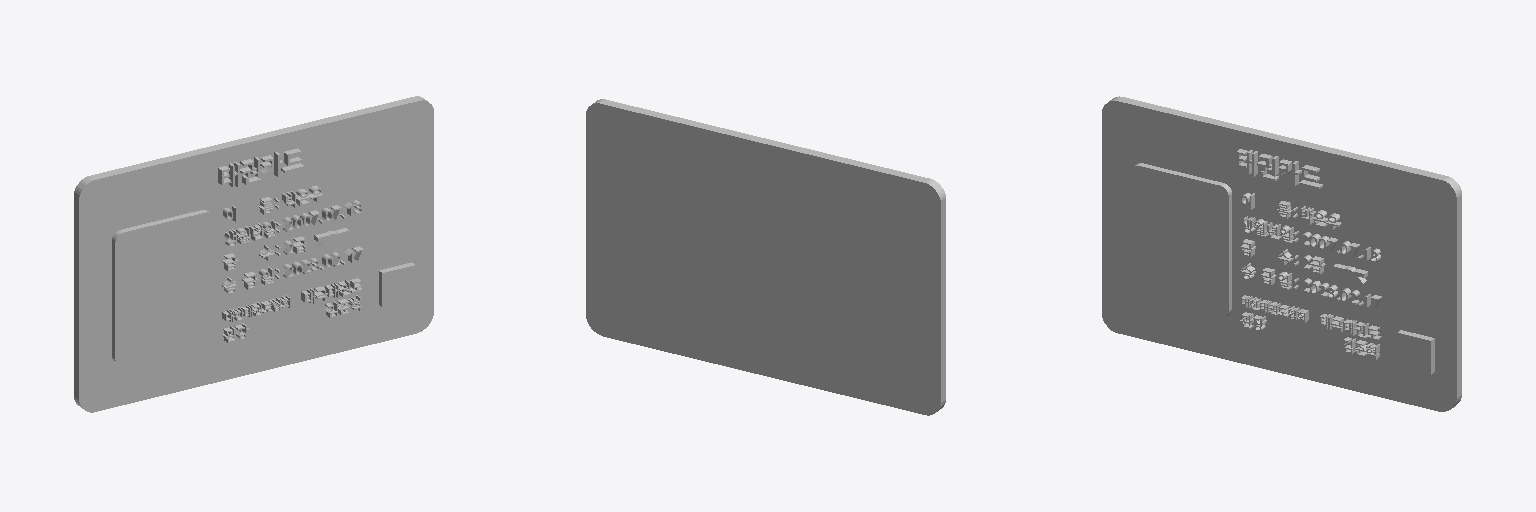
File: namectt.obj
3 renders of one model, left to right at view 1: azimuth 30°, elevation 25°; view 2: azimuth 150°, elevation 25°; view 3: azimuth 330°, elevation 25°, orthographic.
Parts seen in each view (by area): view 1: BG_Plane, hinh_the_Plane.001, Text, Stam_Cube; view 2: BG_Plane; view 3: BG_Plane, hinh_the_Plane.001, Text, Stam_Cube.
Part boxes in pixels (x1,y1,x2,y2): BG_Plane: (74,96,433,412); hinh_the_Plane.001: (112,210,213,365); Text: (218,148,363,342); Stam_Cube: (379,262,415,306); BG_Plane: (586,99,945,415); BG_Plane: (1102,96,1461,411); hinh_the_Plane.001: (1130,163,1231,318); Text: (1236,149,1381,359); Stam_Cube: (1397,330,1434,374).
Bounding box in the file's own units: 4.98 × 3.11 × 0.2344.